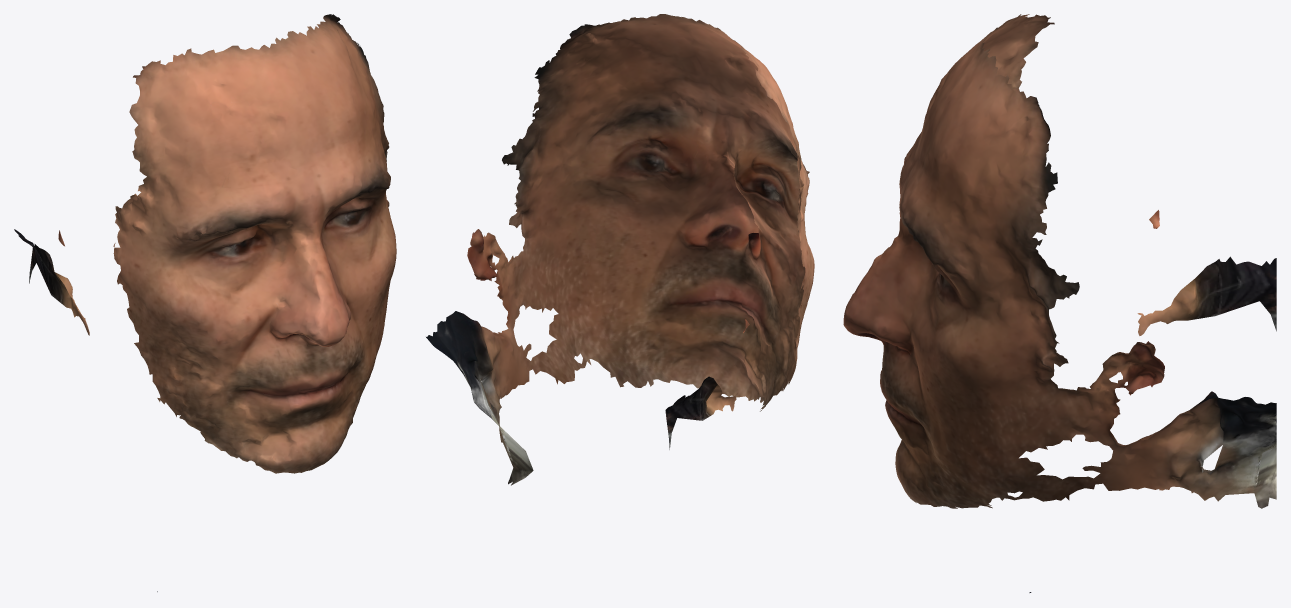
File: Hermes en 3D.fbx
3 renders of one model, left to right at view 1: azimuth 30°, elevation 25°; view 2: azimuth 150°, elevation 25°; view 3: azimuth 270°, elevation 25°, orthographic. The views are drawn at different scales.
Parts seen in each view (by area): view 1: Hermes_2; view 2: Hermes_2; view 3: Hermes_2.
Boxes of the visible parts, bbox=[...] form: Hermes_2: bbox=[14, 14, 396, 591]; Hermes_2: bbox=[426, 14, 814, 485]; Hermes_2: bbox=[843, 14, 1276, 592].
Size of the model in its own units: 15.04 by 27.64 by 18.09.
